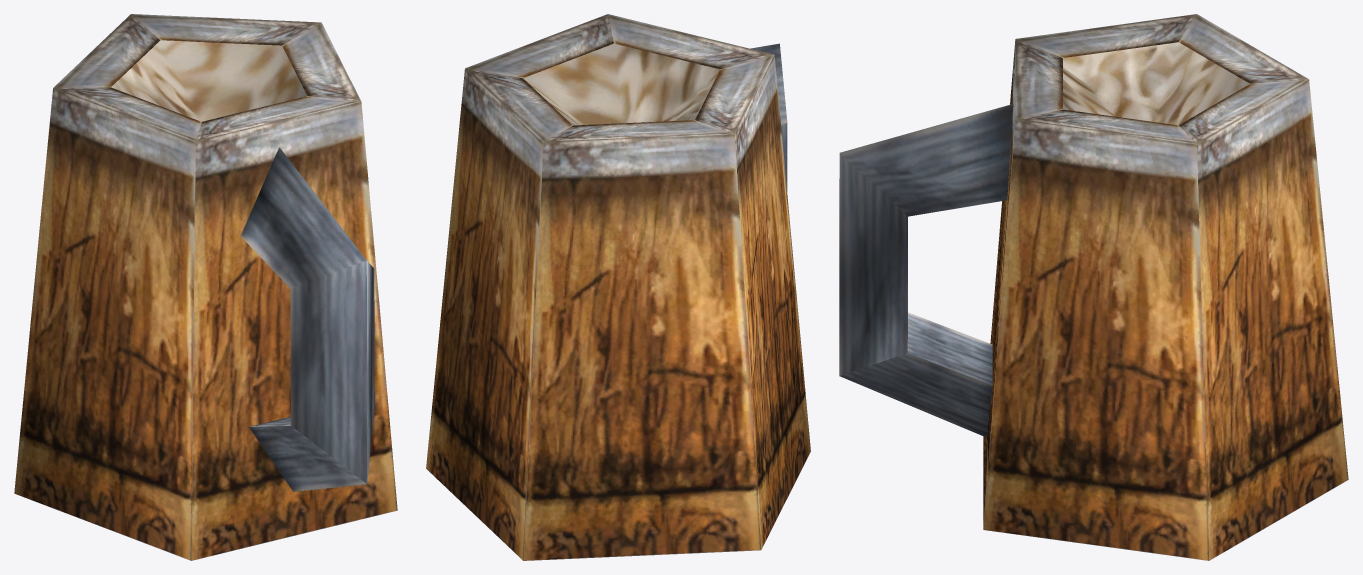
The model's file is mug01.obj.
3 renders of one model, left to right at view 1: azimuth 30°, elevation 25°; view 2: azimuth 150°, elevation 25°; view 3: azimuth 270°, elevation 25°, orthographic.
Visible parts, largest first — view 1: mug01; view 2: mug01; view 3: mug01.
Boxes of the visible parts, x1,y1,x2,y2 form: mug01: (14,14,397,560); mug01: (426,14,810,560); mug01: (839,14,1348,560).
Size of the model in its own units: 0.2455 by 0.2825 by 0.3255.
Materials: 1 (1 with a texture image).
